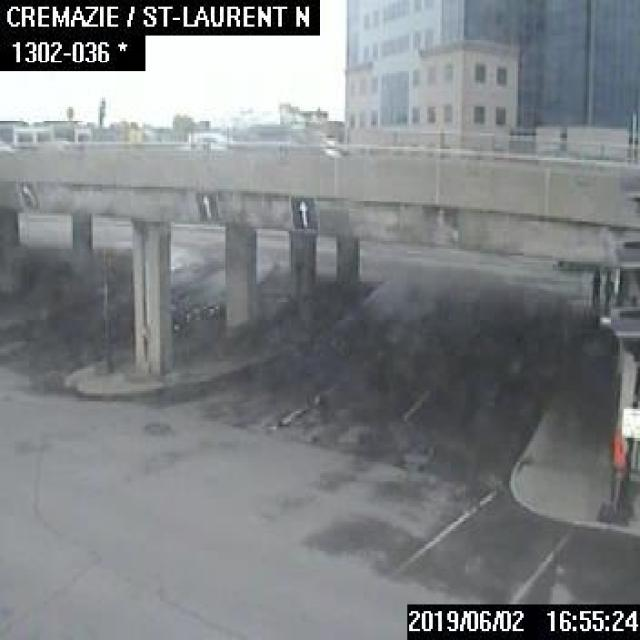construction: (602, 431, 624, 522)
pedestrian: (602, 267, 614, 313), (589, 265, 601, 311)
vehicle: (196, 121, 350, 154)
